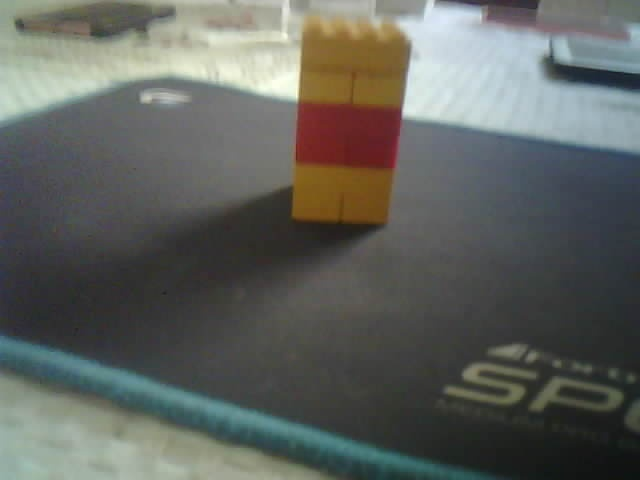lego: (288, 12, 413, 227)
